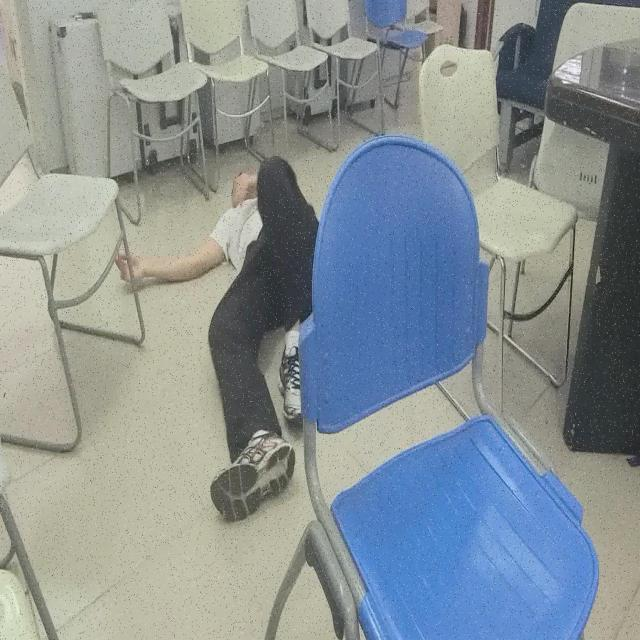fall: (114, 162, 334, 526)
